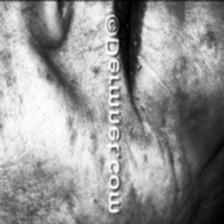Non-Cancerous Skin Condition: (4, 7, 108, 219), (125, 57, 188, 224), (197, 6, 224, 94)
